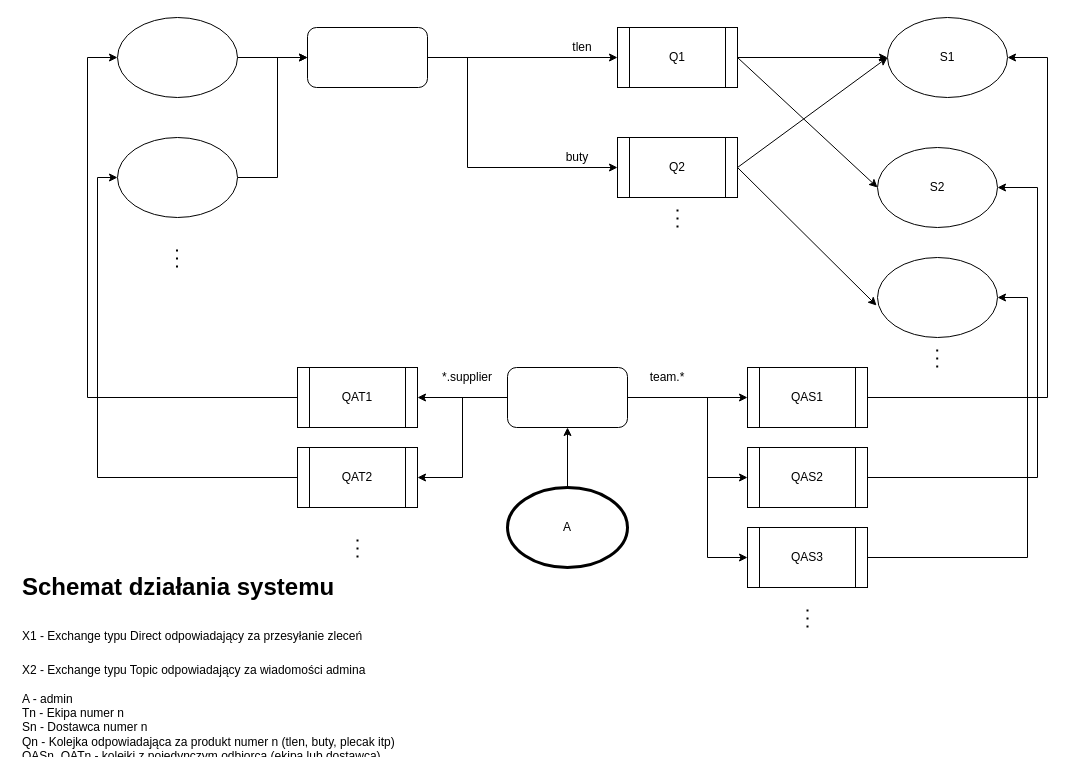
This 1073x780 diagram has some shape labels left out. The shapes that lost their labels are listed below. From the top down, each one's box as (x1, y1, x2, y2) in pixels, then its label:
(116, 16, 238, 98): T1
(306, 26, 428, 88): X1
(116, 136, 238, 218): T2
(876, 256, 998, 338): S3
(506, 366, 628, 428): X2
